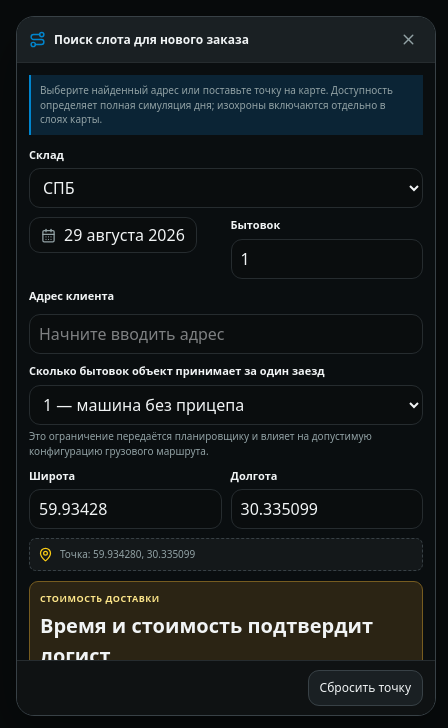
Test: dispatcher slot availability panel › renders exactly three server-controlled cards and structured Russian failure reasons
The width and height of the screenshot is (448, 728).
Expected: the text "Поиск слота для нового заказа" is shown, [54, 30, 249, 48]
Type "СПб, адрес 1" into the field named "Адрес нового клиента" at (226, 334), box [29, 314, 423, 354]
(page scrolled)
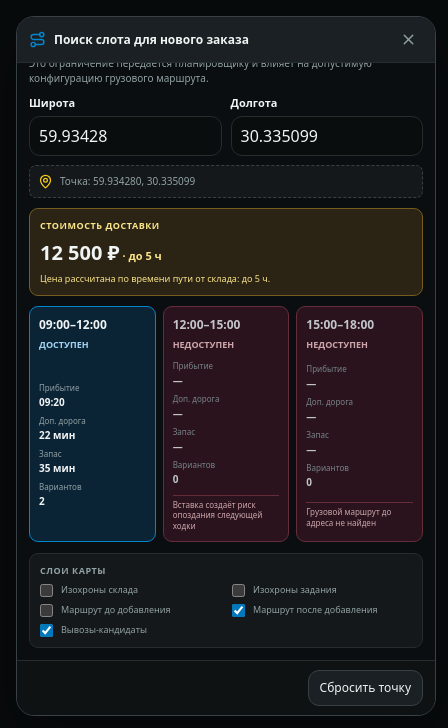
Now the text "Вставка создаёт риск опоздания следующей ходки" is shown, box [173, 495, 279, 532]
Now the text "Грузовой маршрут до адреса не найден" is shown, box [306, 502, 413, 528]
Now the text "2" is shown, box [39, 494, 45, 508]
